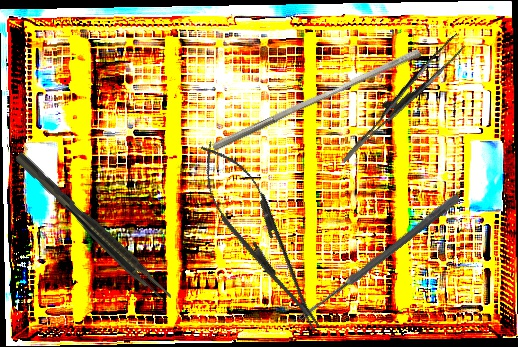Needle Holder: (183, 131, 339, 345)
Pusher: (211, 40, 422, 160)
Surgical Spoon: (297, 192, 461, 324)
Tissue Forceps: (14, 147, 174, 307), (324, 33, 477, 163)
